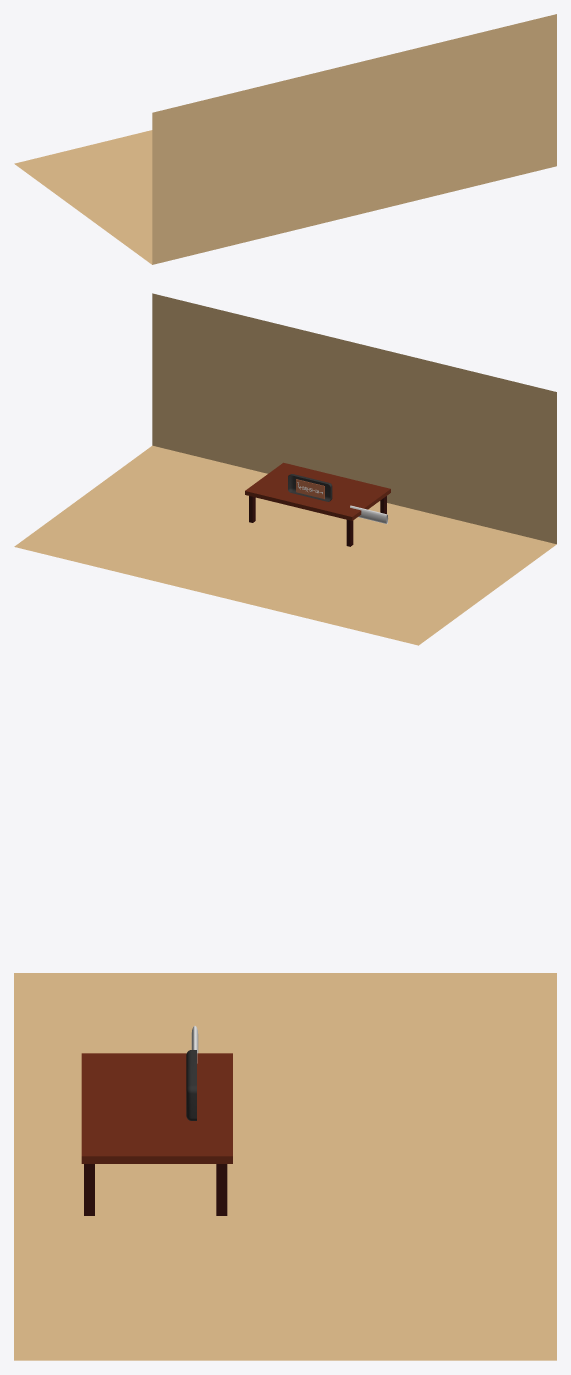
File: langsung.gltf
The picture shows the model from 3 angles, top to bottom: view 1: azimuth 30°, elevation 25°; view 2: azimuth 150°, elevation 25°; view 3: azimuth 270°, elevation 25°; orthographic projection. The views are drawn at different scales.
Parts seen in each view (by area): view 1: bg.001; view 2: bg.001, table, radioCut; view 3: bg.001, table.
Boxes of the visible parts, box(x1,y1,x2,y2) form: bg.001: box(14, 14, 556, 264); bg.001: box(14, 293, 556, 645); table: box(245, 462, 390, 546); radioCut: box(288, 474, 332, 501); bg.001: box(14, 973, 556, 1360); table: box(81, 1053, 232, 1215).
Bounding box in the file's own units: 49.18 × 17.68 × 29.12.
